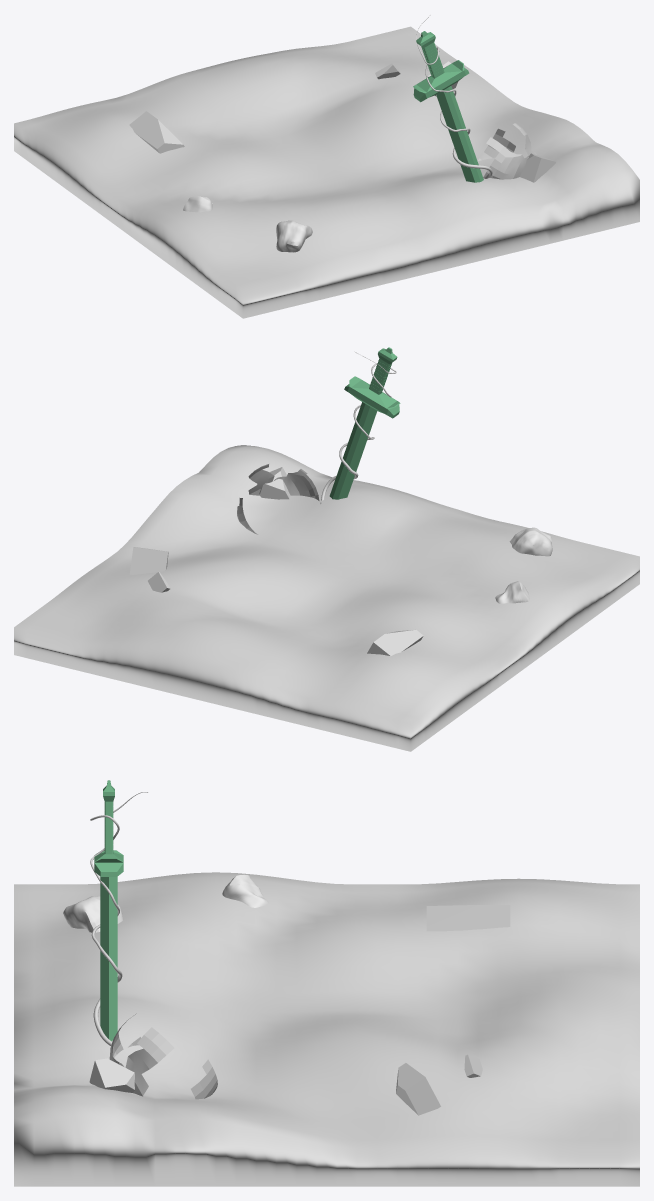
The model's file is ruins.fbx.
3 views of the same model, one above another, from view 1: azimuth 30°, elevation 25°; view 2: azimuth 150°, elevation 25°; view 3: azimuth 270°, elevation 25° (orthographic). The views are drawn at different scales.
Visible parts, largest first — view 1: 立方體, Sword, 球體, 立方體.001, rock.002, 立方體.004, 貝茲曲線; view 2: 立方體, Sword, 球體, 立方體.001, rock.002, 立方體.002, 立方體.004; view 3: 立方體, Sword, 球體, 立方體.001, 立方體.002, 立方體.004, rock.002, rock, 貝茲曲線.
Part boxes in pixels (x1=…): 立方體: x1=14, y1=26, x2=639, y2=318; Sword: x1=413, y1=31, x2=483, y2=182; 球體: x1=477, y1=123, x2=536, y2=179; 立方體.001: x1=129, y1=111, x2=184, y2=153; rock.002: x1=276, y1=220, x2=312, y2=252; 立方體.004: x1=520, y1=153, x2=555, y2=182; 貝茲曲線: x1=416, y1=14, x2=492, y2=178; 立方體: x1=14, y1=445, x2=639, y2=751; Sword: x1=329, y1=347, x2=400, y2=499; 球體: x1=237, y1=464, x2=321, y2=534; 立方體.001: x1=367, y1=630, x2=423, y2=655; rock.002: x1=509, y1=527, x2=552, y2=556; 立方體.002: x1=129, y1=547, x2=168, y2=574; 立方體.004: x1=257, y1=467, x2=290, y2=499; 立方體: x1=14, y1=872, x2=639, y2=1186; Sword: x1=94, y1=780, x2=123, y2=1041; 球體: x1=109, y1=1013, x2=217, y2=1099; 立方體.001: x1=426, y1=905, x2=510, y2=931; 立方體.002: x1=396, y1=1063, x2=440, y2=1115; 立方體.004: x1=89, y1=1058, x2=134, y2=1092; rock.002: x1=63, y1=896, x2=123, y2=932; rock: x1=222, y1=874, x2=268, y2=907; 貝茲曲線: x1=90, y1=792, x2=147, y2=1045.
Size of the model in its own units: 1500 by 770 by 1500.
